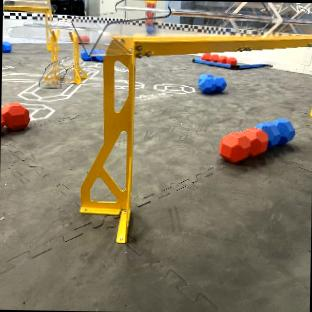Goal: (72, 2, 312, 241)
V5_BLUE: (257, 119, 294, 145), (198, 73, 225, 92), (2, 42, 12, 52)
V5_RED: (218, 126, 268, 162), (0, 101, 28, 130), (81, 35, 89, 41)
